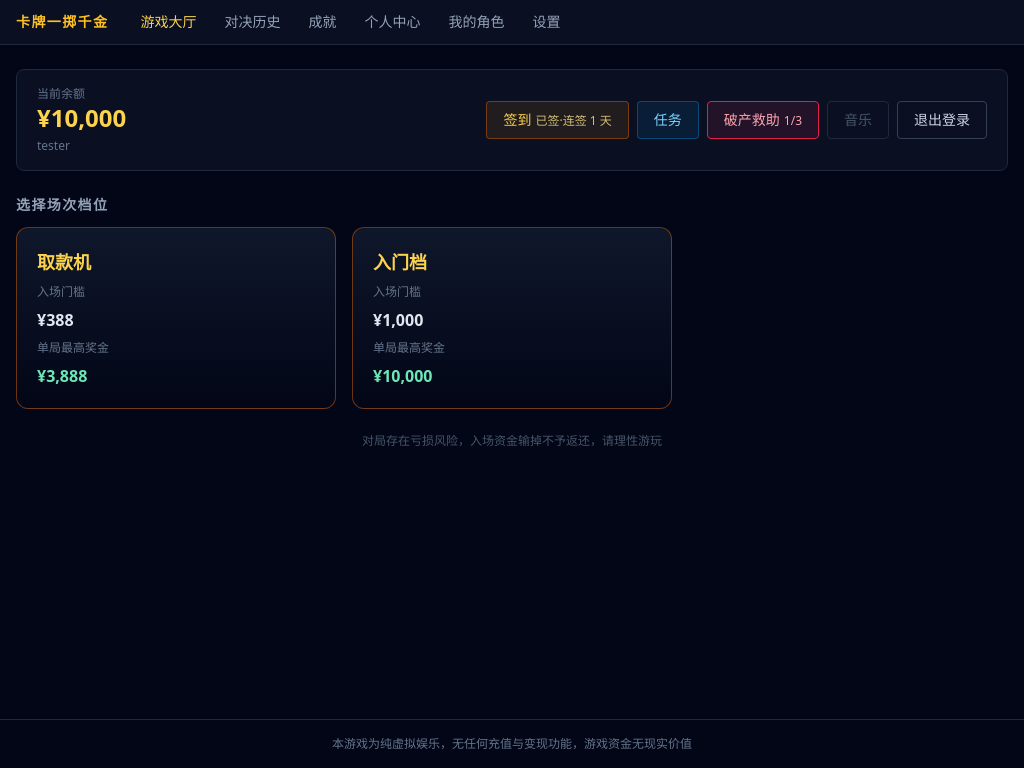
触发点 2：多次破产救助提醒（3.11 第 2 条，依据 needsReminder；附录 A：风险提示弹窗两处触发、可全局关闭） › needsReminder=true 弹逐字文案（仅确认按钮）
This screenshot has width=1024, height=768.
expect the text "入门档" is shown: met, box [373,248,427,276]
Click the button "破产救助1/3".
click(763, 120)  # box [707,101,819,139]
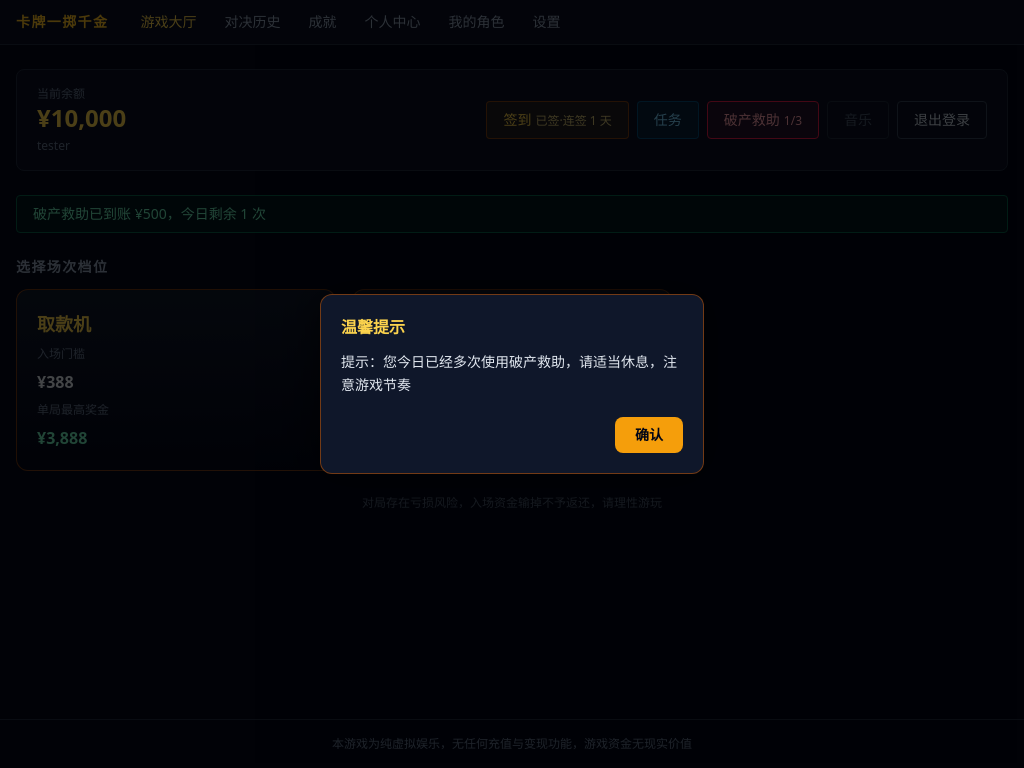
expect the dialog is shown: met
expect the text "提示：您今日已经多次使用破产救助，请适当休息，注意游戏节奏" is shown: met, box [341,351,683,397]
Click the button "确认".
click(649, 435)  # box [615,417,683,453]
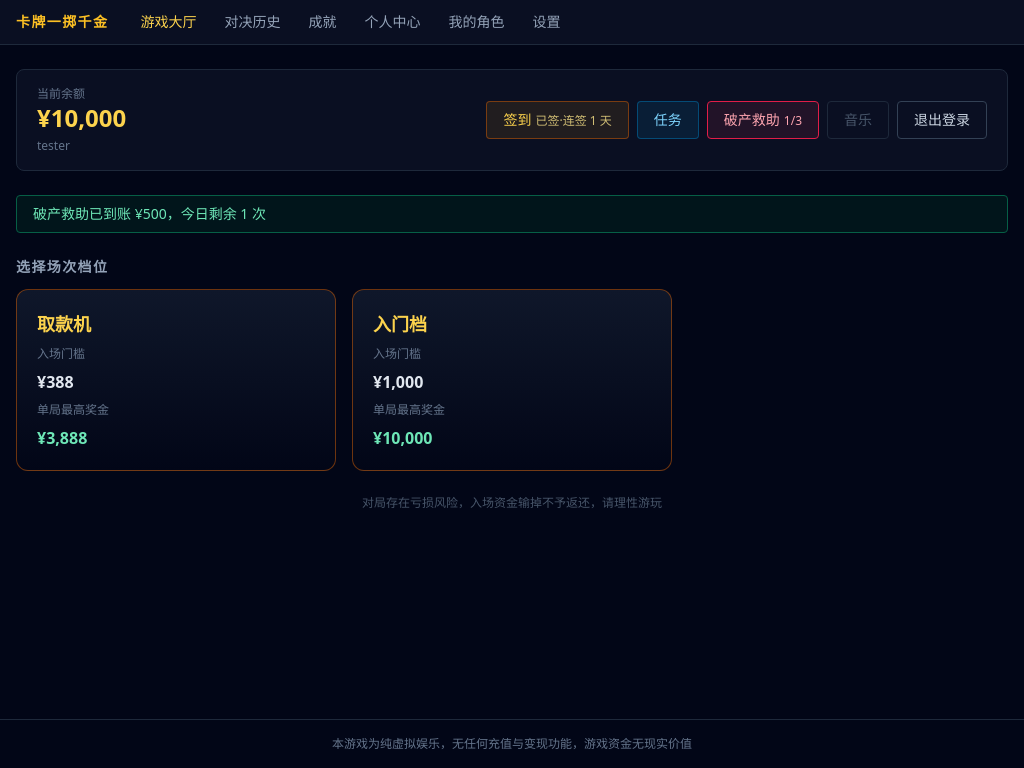
expect the dialog is gone: met
